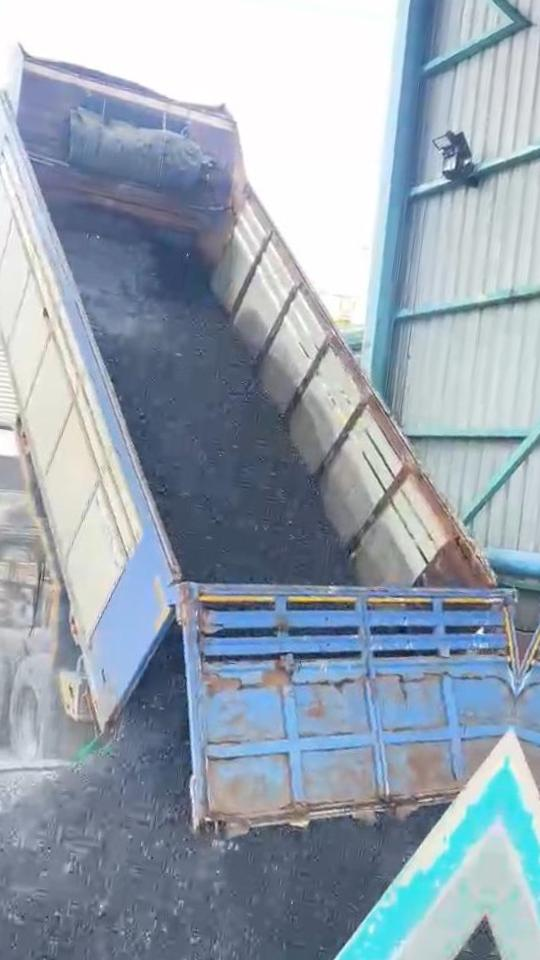gravel: (0, 634, 437, 960), (56, 209, 352, 582), (0, 772, 49, 960), (398, 935, 483, 960)
